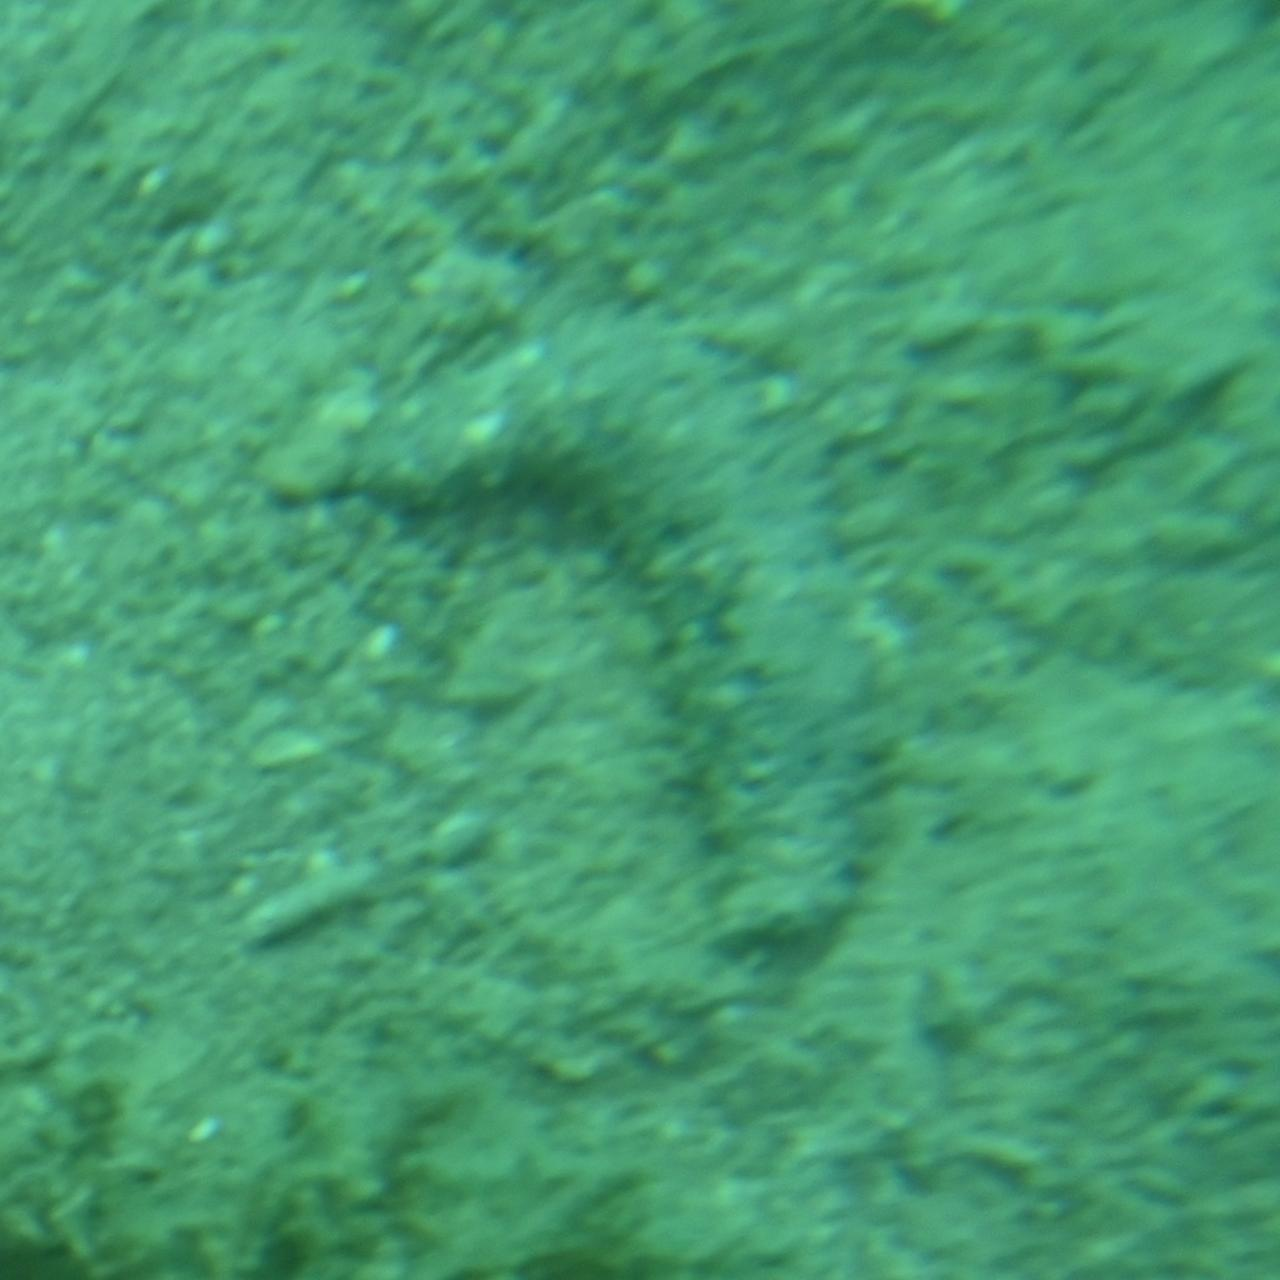Holothuria tubulosa: (348, 299, 932, 981)
